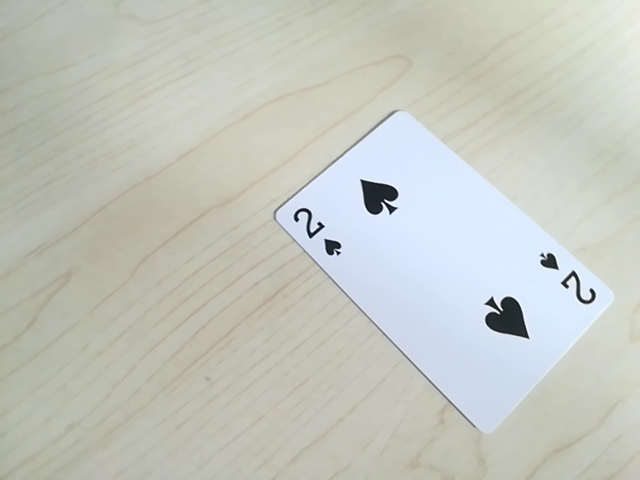ht 2: (533, 244, 602, 312), (280, 202, 343, 261)
